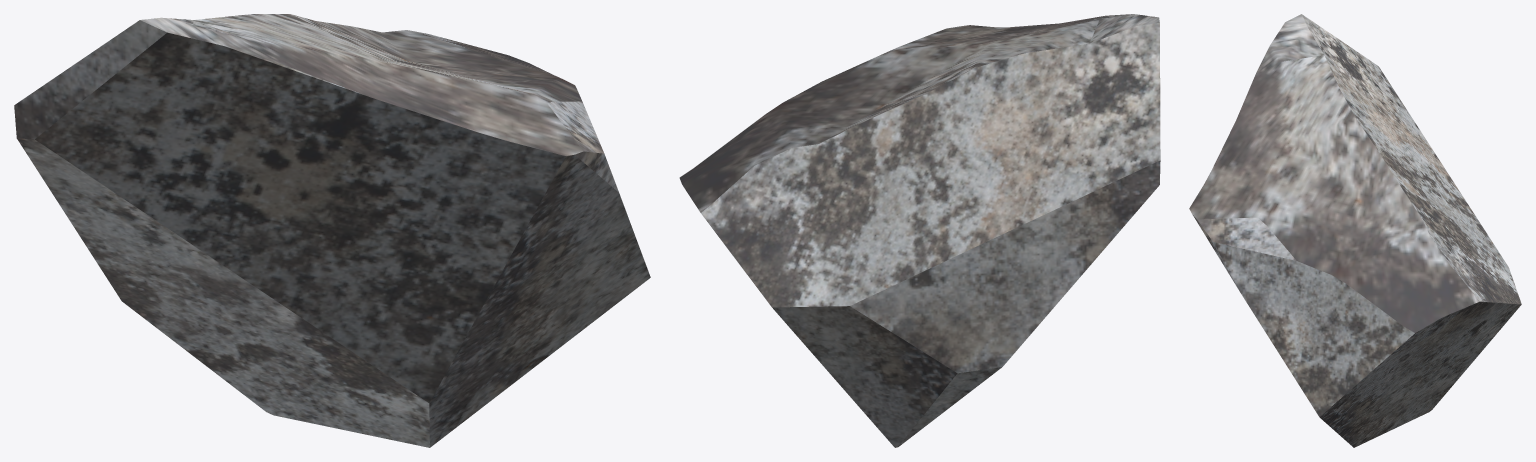
The model's file is Asteroid_Large_001_02_009_03_028.fbx.
The picture shows the model from 3 angles, left to right: view 1: azimuth 30°, elevation 25°; view 2: azimuth 150°, elevation 25°; view 3: azimuth 270°, elevation 25°; orthographic projection. The views are drawn at different scales.
Parts seen in each view (by area): view 1: Asteroid_Large_001_02_009_03_028; view 2: Asteroid_Large_001_02_009_03_028; view 3: Asteroid_Large_001_02_009_03_028.
Part boxes in pixels (x1=…): Asteroid_Large_001_02_009_03_028: x1=14, y1=14, x2=650, y2=447; Asteroid_Large_001_02_009_03_028: x1=679, y1=14, x2=1160, y2=447; Asteroid_Large_001_02_009_03_028: x1=1189, y1=14, x2=1521, y2=447.
Size of the model in its own units: 12.56 by 11.01 by 9.94.
